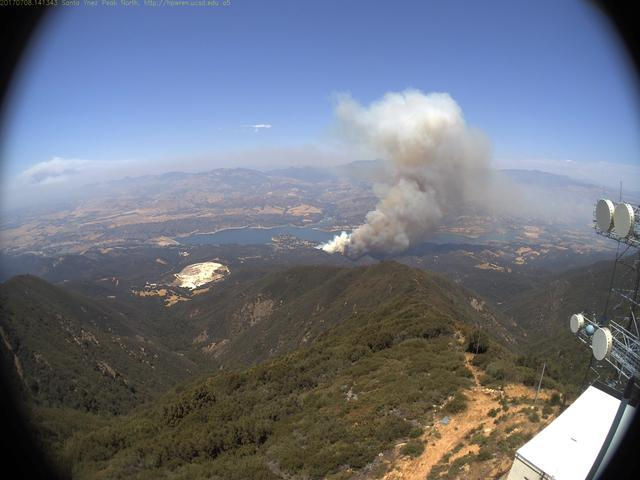smoke: (302, 83, 505, 259)
